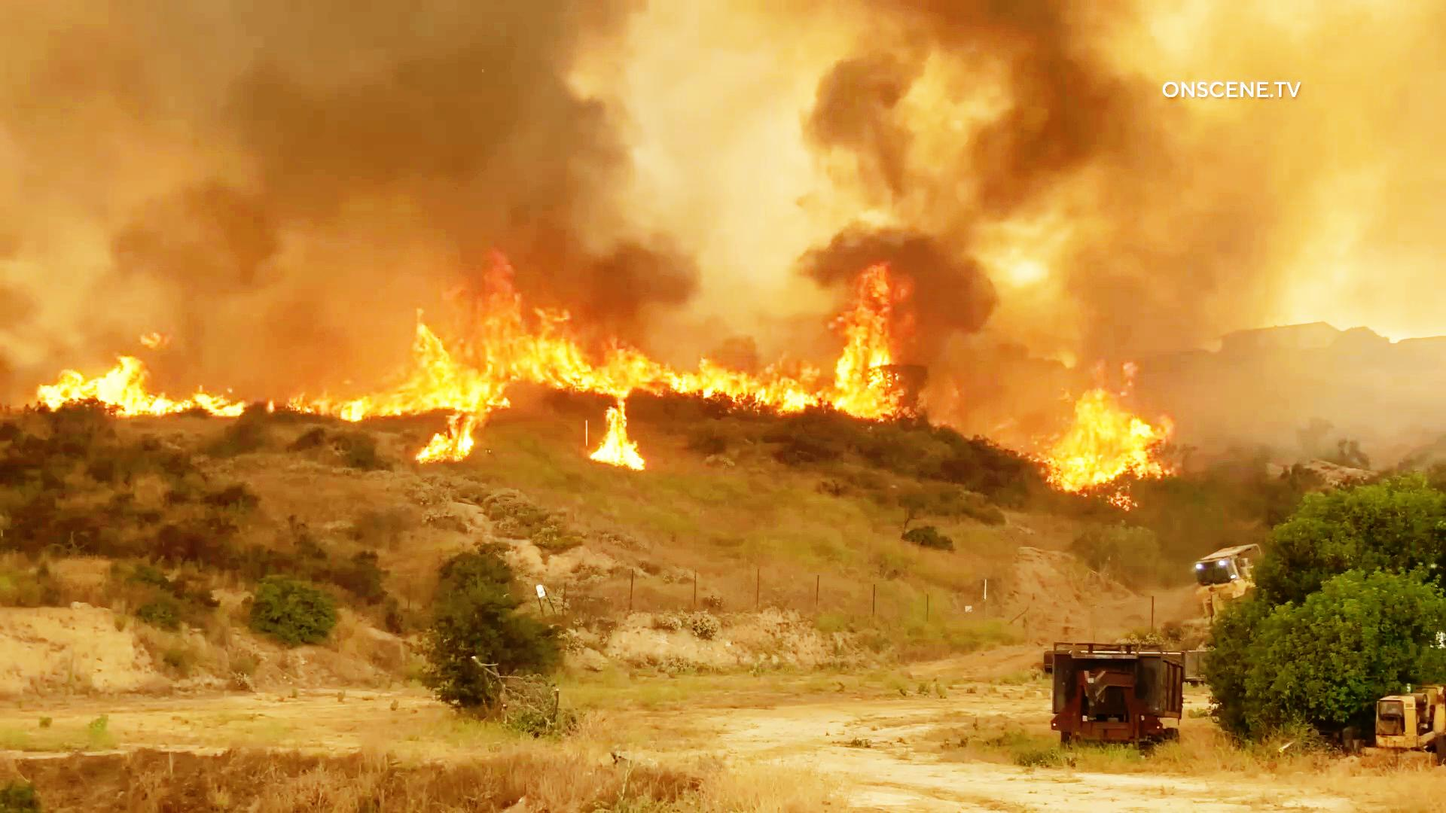fire: (384, 253, 644, 469), (29, 343, 257, 437), (823, 251, 923, 431), (1049, 356, 1163, 503)
smoke: (872, 30, 1075, 231)
